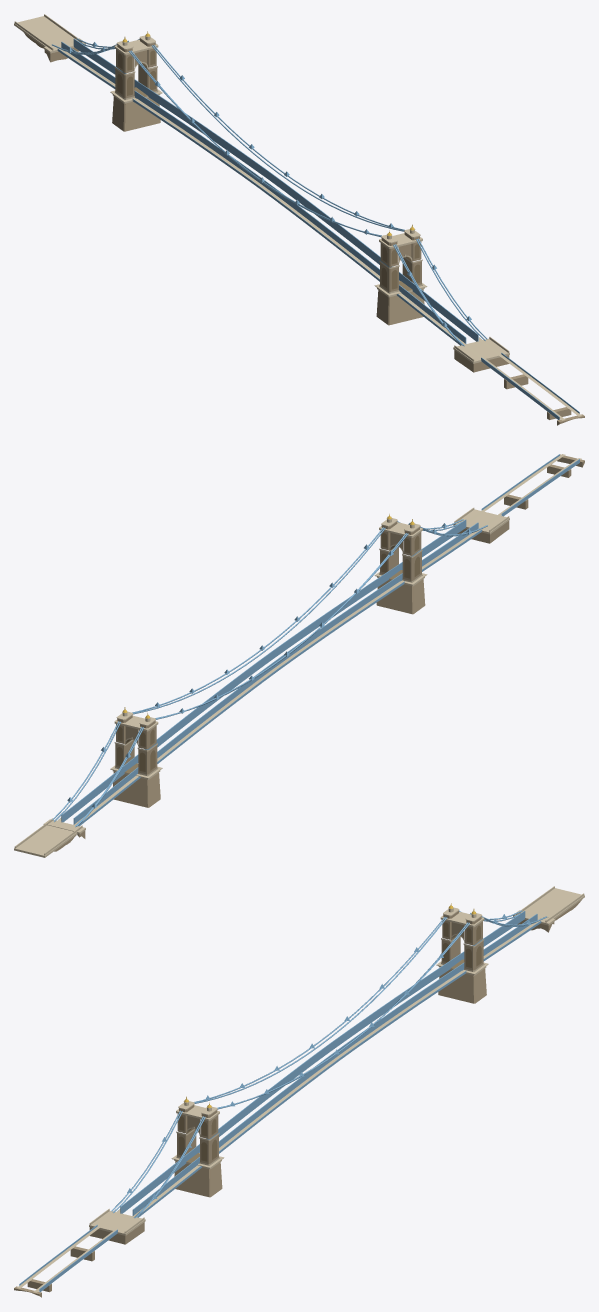
The model's file is cin-roebling-bridge.glb.
The picture shows the model from 3 angles, top to bottom: view 1: azimuth 30°, elevation 25°; view 2: azimuth 150°, elevation 25°; view 3: azimuth 330°, elevation 25°; orthographic projection.
Parts seen in each view (by area): view 1: John A. Roebling Suspension Bridge; view 2: John A. Roebling Suspension Bridge; view 3: John A. Roebling Suspension Bridge.
Part boxes in pixels (x1,y1,x2,y2): John A. Roebling Suspension Bridge: (14,14,584,425); John A. Roebling Suspension Bridge: (14,454,584,857); John A. Roebling Suspension Bridge: (14,886,584,1297).
Size of the model in its own units: 26.8 by 59.6 by 658.
